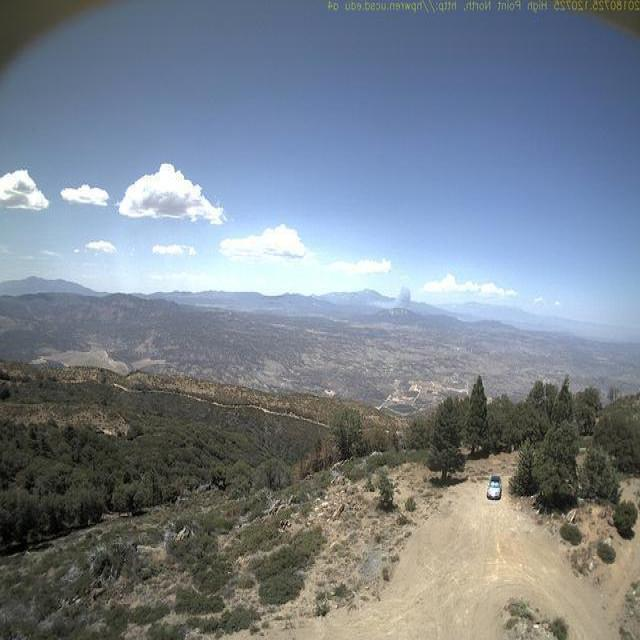Smoke: (371, 277, 430, 315)
